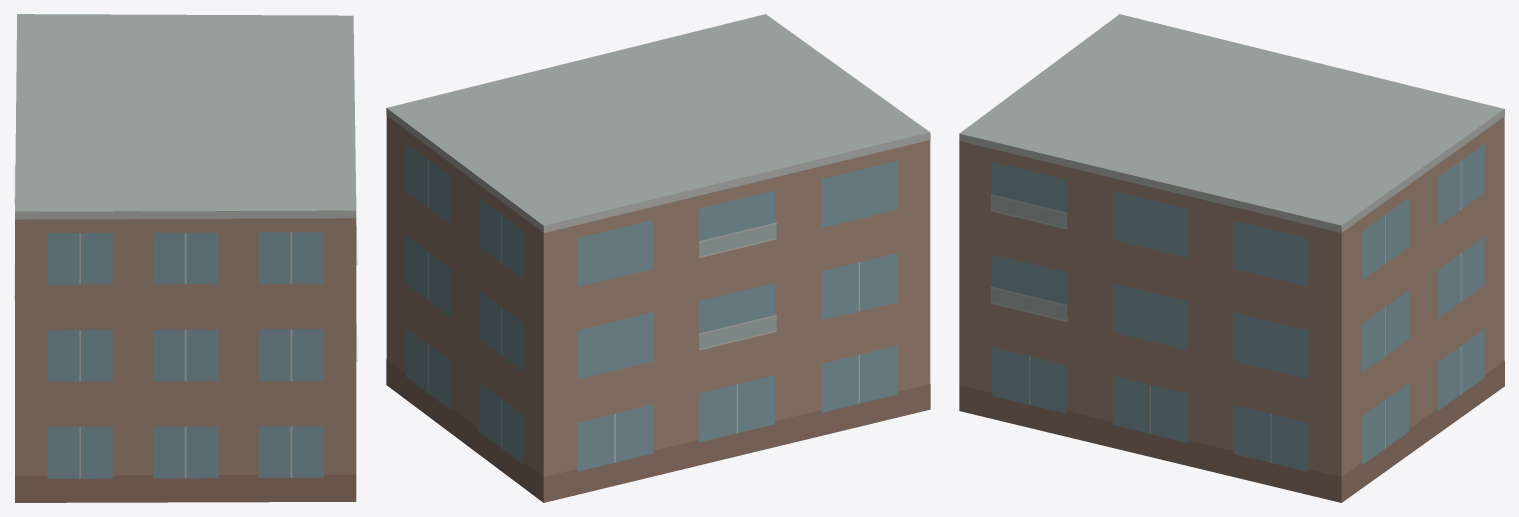
Rendered from survey-upis-32706613.glb.
The picture shows the model from 3 angles, left to right: view 1: azimuth 30°, elevation 25°; view 2: azimuth 150°, elevation 25°; view 3: azimuth 270°, elevation 25°; orthographic projection. The views are drawn at different scales.
Visible parts, largest first — view 1: survey-upis-32706613.tmp; view 2: survey-upis-32706613.tmp; view 3: survey-upis-32706613.tmp.
Boxes of the visible parts, box(x1,y1,x2,y2) form: survey-upis-32706613.tmp: box(14, 14, 357, 502); survey-upis-32706613.tmp: box(386, 14, 930, 502); survey-upis-32706613.tmp: box(959, 14, 1504, 502).
Size of the model in its own units: 14.98 by 9.15 by 16.32.
